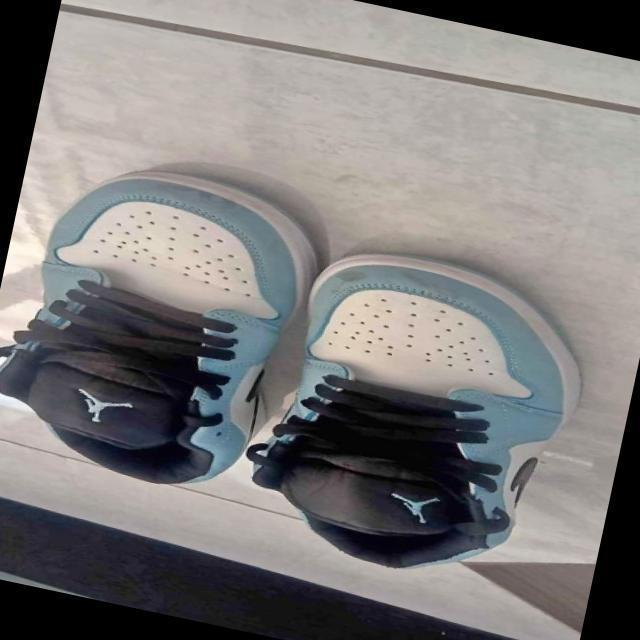nike fake jordan 1: (234, 232, 606, 596), (0, 140, 321, 505)
